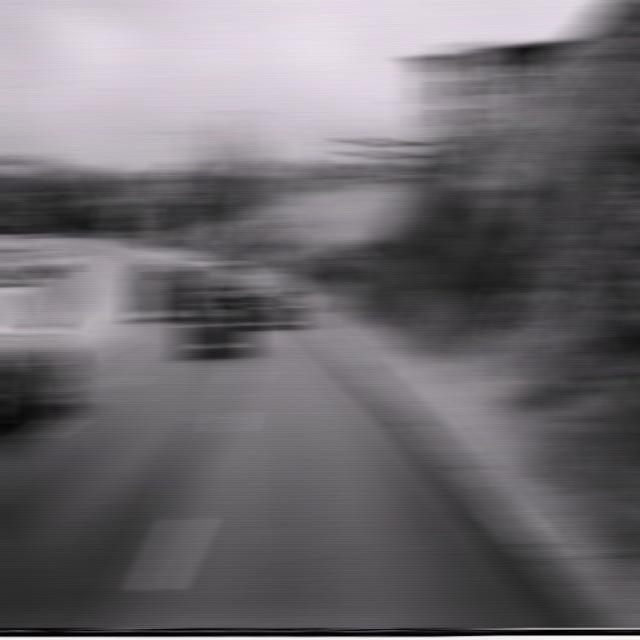pedestrianCrossing: (257, 203, 289, 236)
